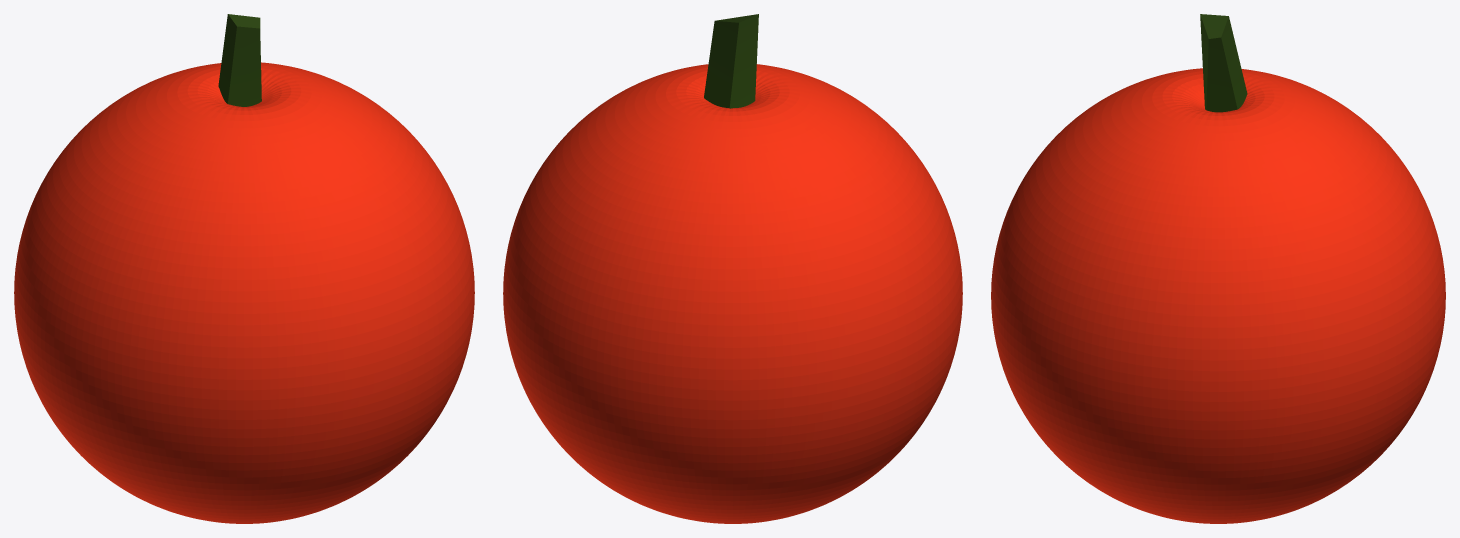
The model's file is Tomato.obj.
The picture shows the model from 3 angles, left to right: view 1: azimuth 30°, elevation 25°; view 2: azimuth 150°, elevation 25°; view 3: azimuth 270°, elevation 25°; orthographic projection.
Visible parts, largest first — view 1: Red, Cube; view 2: Red, Cube; view 3: Red, Cube.
Part boxes in pixels (x1,y1,x2,y2): Red: (14, 62, 474, 523); Cube: (218, 14, 261, 106); Red: (503, 64, 962, 523); Cube: (704, 14, 758, 108); Red: (991, 68, 1445, 523); Cube: (1200, 14, 1247, 112).
Bounding box in the file's own units: 1.98 × 2.32 × 1.98.
1 material, 1 textured.
